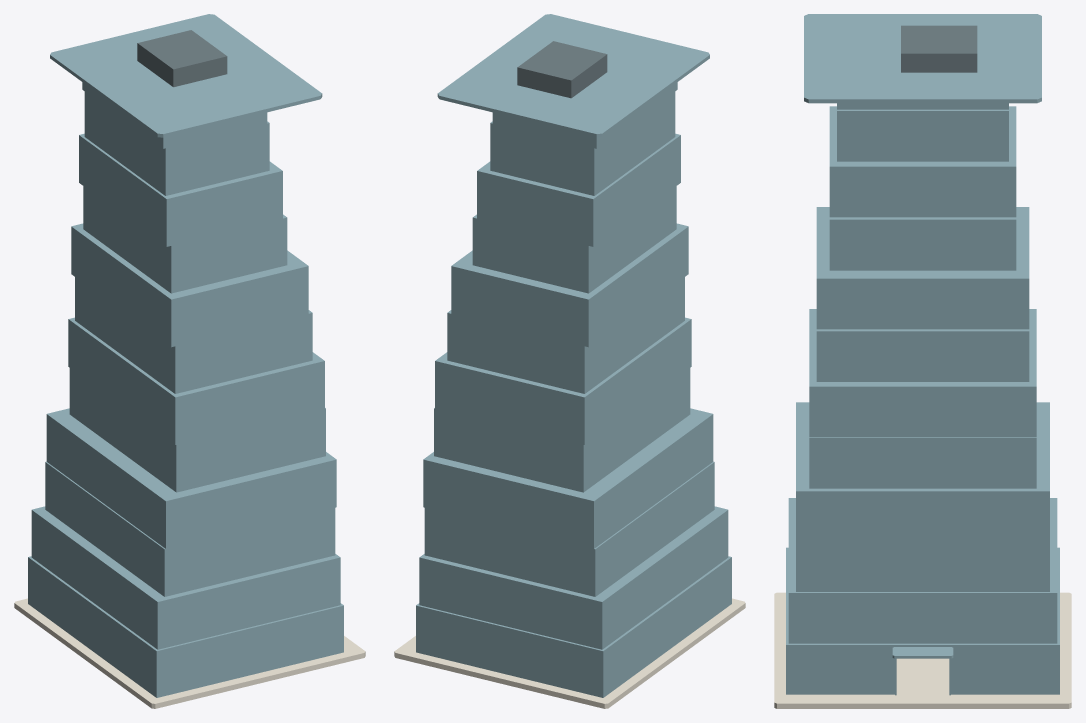
The model's file is Spire_Helix_12F_v4_ShadowProxy.glb.
3 views of the same model, side by side, from view 1: azimuth 30°, elevation 25°; view 2: azimuth 150°, elevation 25°; view 3: azimuth 270°, elevation 25° (orthographic). The views are drawn at different scales.
Visible parts, largest first — view 1: Spire_Helix_12F_v4_ShadowProxy / Structure, Spire_Helix_12F_v4_ShadowProxy / Roof, Spire_Helix_12F_v4_ShadowProxy / Foundation; view 2: Spire_Helix_12F_v4_ShadowProxy / Structure, Spire_Helix_12F_v4_ShadowProxy / Roof, Spire_Helix_12F_v4_ShadowProxy / Foundation; view 3: Spire_Helix_12F_v4_ShadowProxy / Structure, Spire_Helix_12F_v4_ShadowProxy / Roof, Spire_Helix_12F_v4_ShadowProxy / Foundation, Spire_Helix_12F_v4_ShadowProxy / Entrance modules.
Boxes of the visible parts, left/top/right/bottom form: Spire_Helix_12F_v4_ShadowProxy / Structure: left=28, top=82, right=343, bottom=697; Spire_Helix_12F_v4_ShadowProxy / Roof: left=50, top=14, right=322, bottom=137; Spire_Helix_12F_v4_ShadowProxy / Foundation: left=14, top=598, right=365, bottom=708; Spire_Helix_12F_v4_ShadowProxy / Structure: left=416, top=82, right=731, bottom=697; Spire_Helix_12F_v4_ShadowProxy / Roof: left=437, top=14, right=709, bottom=137; Spire_Helix_12F_v4_ShadowProxy / Foundation: left=394, top=598, right=745, bottom=708; Spire_Helix_12F_v4_ShadowProxy / Structure: left=786, top=103, right=1059, bottom=694; Spire_Helix_12F_v4_ShadowProxy / Roof: left=804, top=14, right=1041, bottom=103; Spire_Helix_12F_v4_ShadowProxy / Foundation: left=774, top=592, right=1071, bottom=708; Spire_Helix_12F_v4_ShadowProxy / Entrance modules: left=892, top=647, right=953, bottom=695.
Bounding box in the file's own units: 15 × 38.68 × 17.
